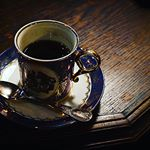cups: (11, 18, 103, 103)
